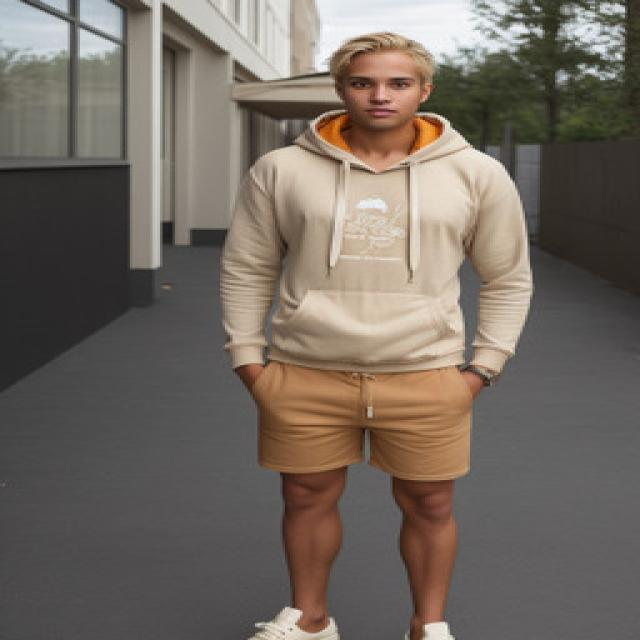Ai human 2: (198, 20, 562, 640)
